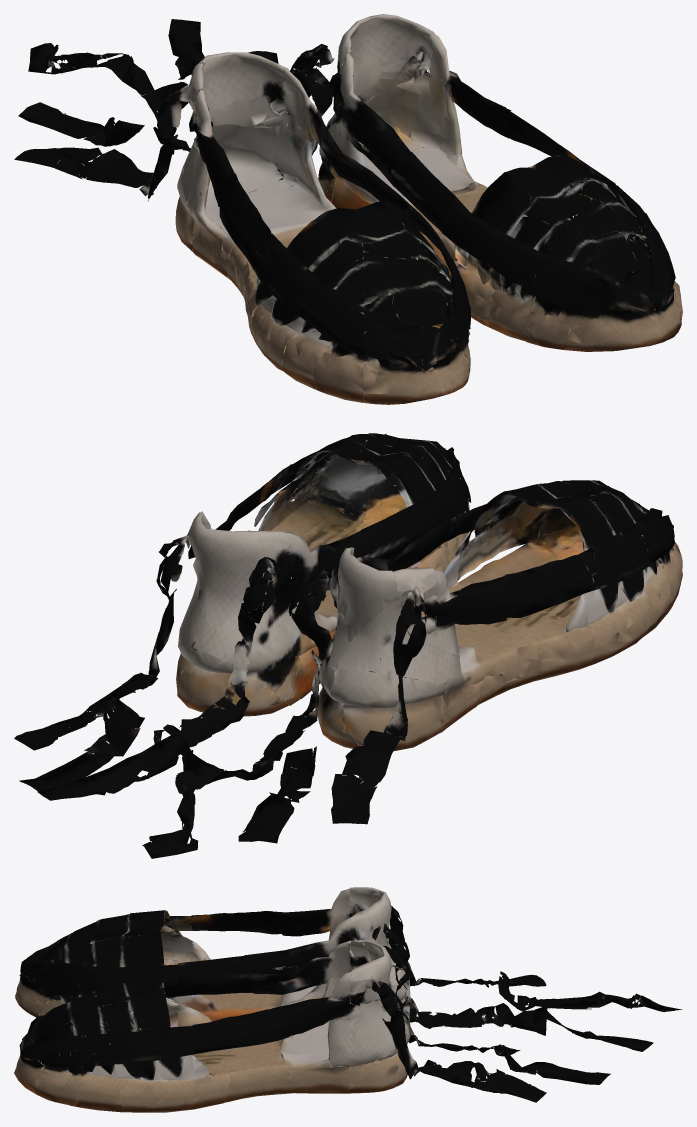
The picture shows the model from 3 angles, top to bottom: view 1: azimuth 30°, elevation 25°; view 2: azimuth 150°, elevation 25°; view 3: azimuth 270°, elevation 25°; orthographic projection. The views are drawn at different scales.
Visible parts, largest first — view 1: tripo_node_3bb437ed-7013-4cb2-8735-dd85e92f1733; view 2: tripo_node_3bb437ed-7013-4cb2-8735-dd85e92f1733; view 3: tripo_node_3bb437ed-7013-4cb2-8735-dd85e92f1733.
Part boxes in pixels (box(x1,y1,x2,y2)): tripo_node_3bb437ed-7013-4cb2-8735-dd85e92f1733: box(14, 14, 682, 404); tripo_node_3bb437ed-7013-4cb2-8735-dd85e92f1733: box(14, 433, 682, 858); tripo_node_3bb437ed-7013-4cb2-8735-dd85e92f1733: box(14, 887, 681, 1112).
Bounding box in the file's own units: 0.4681 × 0.2123 × 1.
Materials: 1 (1 with a texture image).
